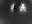person: (21, 4, 29, 15), (11, 5, 16, 11)
